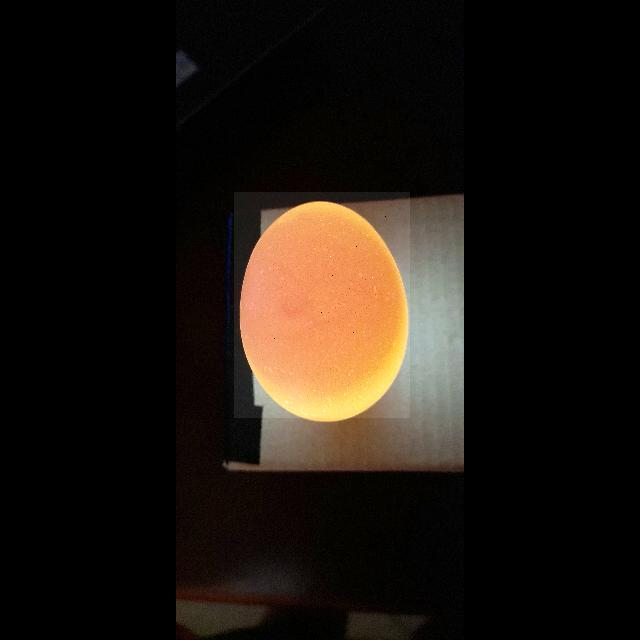Fertile: (234, 192, 410, 418)
